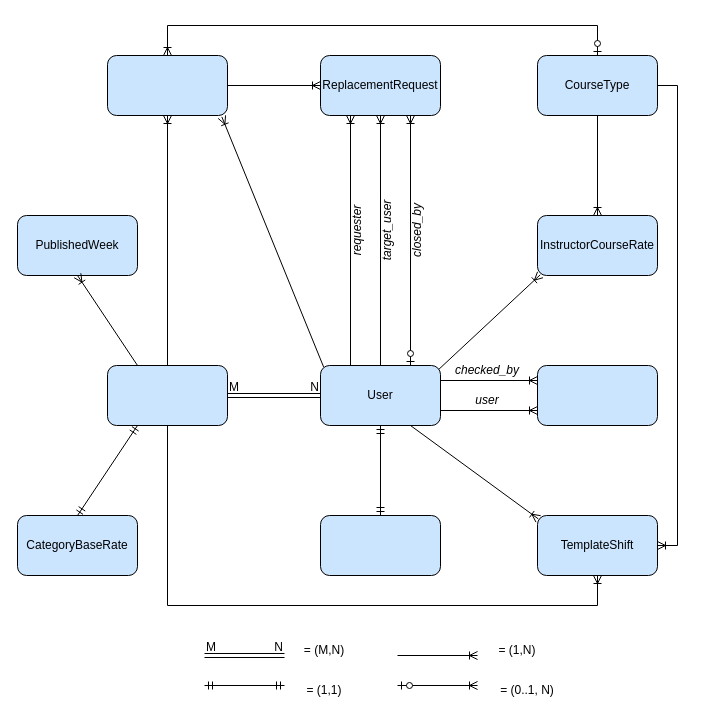
Image size: 703x723. Some labels were removed from this diagram. Each missing label, with the centre of its shape:
ContabilitaCheck: the point at 597,395
Shift: the point at 167,85
UserHourlyRate: the point at 380,545
UserRole: the point at 167,395
